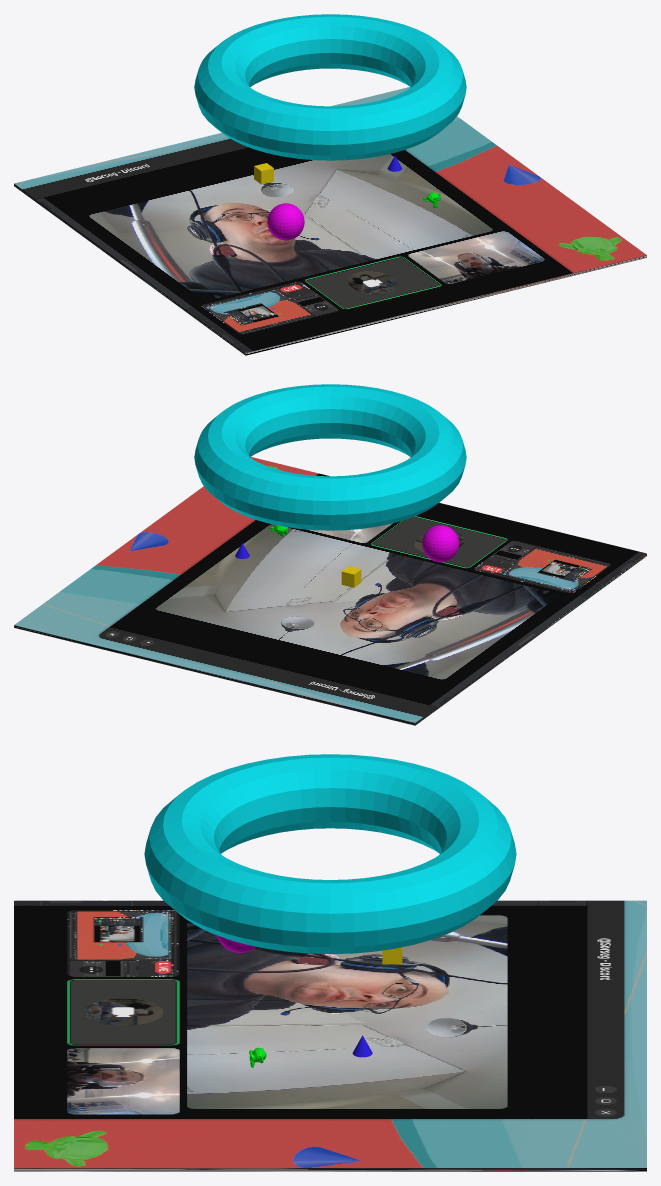
Rendered from petrichor4-intro.glb.
3 renders of one model, top to bottom at view 1: azimuth 30°, elevation 25°; view 2: azimuth 150°, elevation 25°; view 3: azimuth 270°, elevation 25°, orthographic. The views are drawn at different scales.
Visible parts, largest first — view 1: Cube.001, Torus, Sphere; view 2: Cube.001, Torus, Sphere; view 3: Cube.001, Torus.
Boxes of the visible parts, box(x1,y1,x2,y2) form: Cube.001: box(14, 87, 646, 355); Torus: box(194, 14, 466, 160); Sphere: box(267, 203, 304, 240); Cube.001: box(14, 457, 646, 725); Torus: box(194, 384, 466, 530); Sphere: box(422, 525, 459, 562); Cube.001: box(14, 900, 646, 1171); Torus: box(144, 754, 516, 954).
Size of the model in its own units: 63.4 by 24.04 by 63.4.
Materials: 6 (1 with a texture image).
